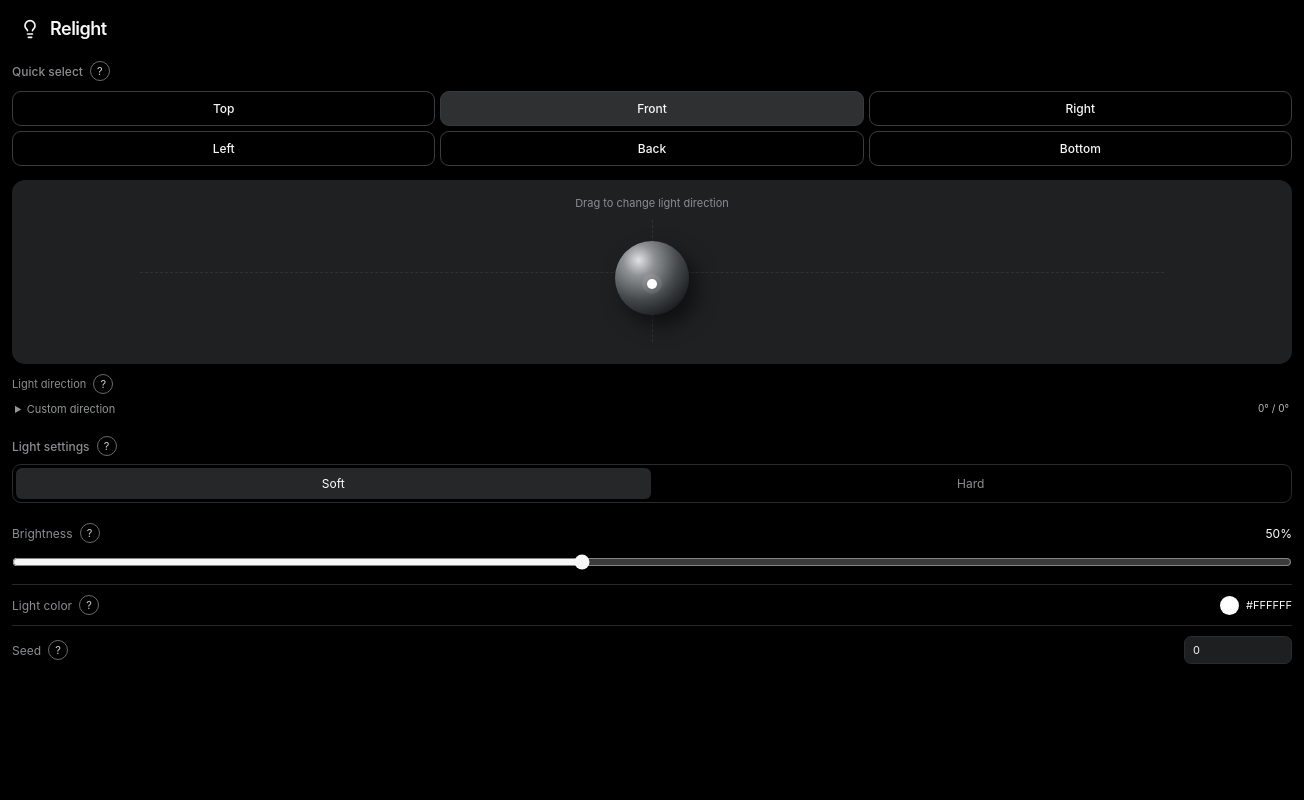
Relight control help › shows a description on mouse hover and supports click and Escape
Hover over the button named "About brightness".
mouse_move(90, 533)  # box x1=80 y1=523 x2=100 y2=543
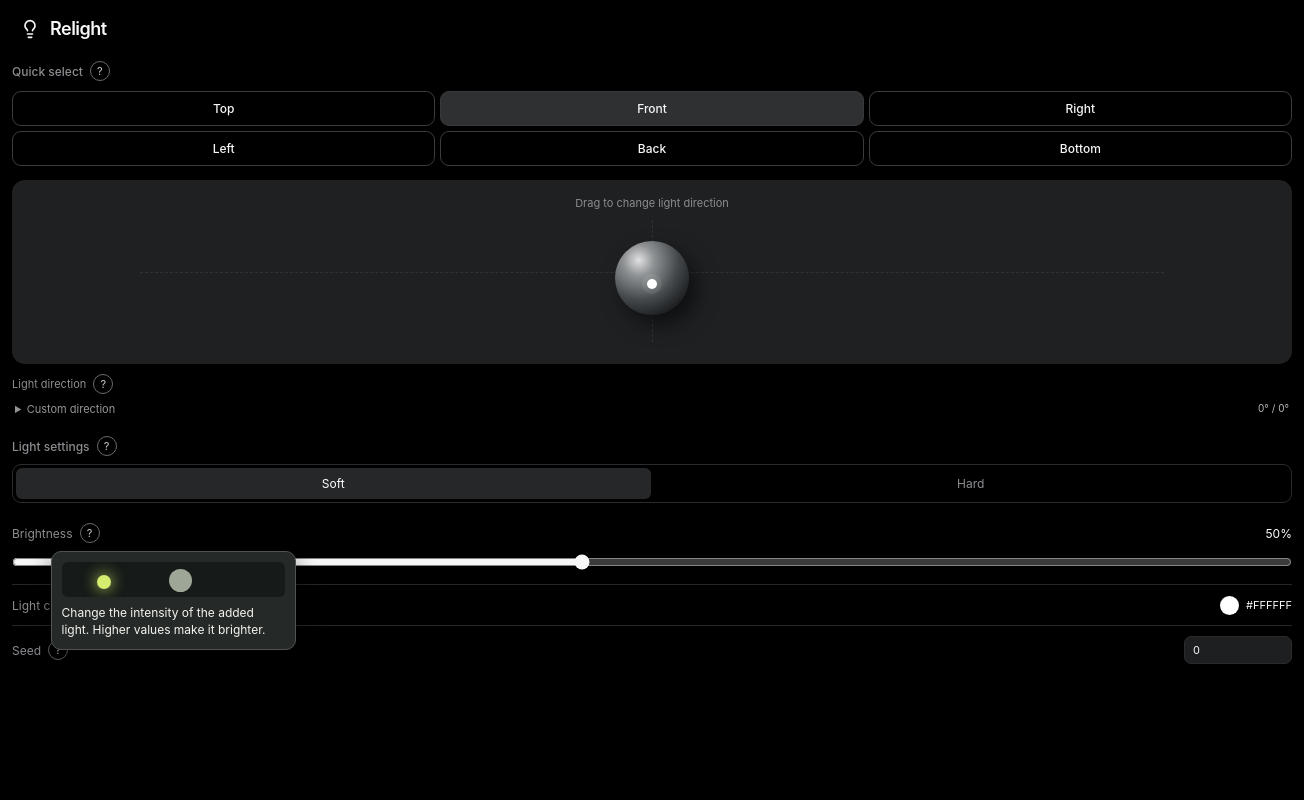
Check: the tooltip shows "Higher values make it brighter", box x1=62 y1=605 x2=265 y2=637
Move the pointer off the button named "About brightness", box x1=80 y1=523 x2=100 y2=543
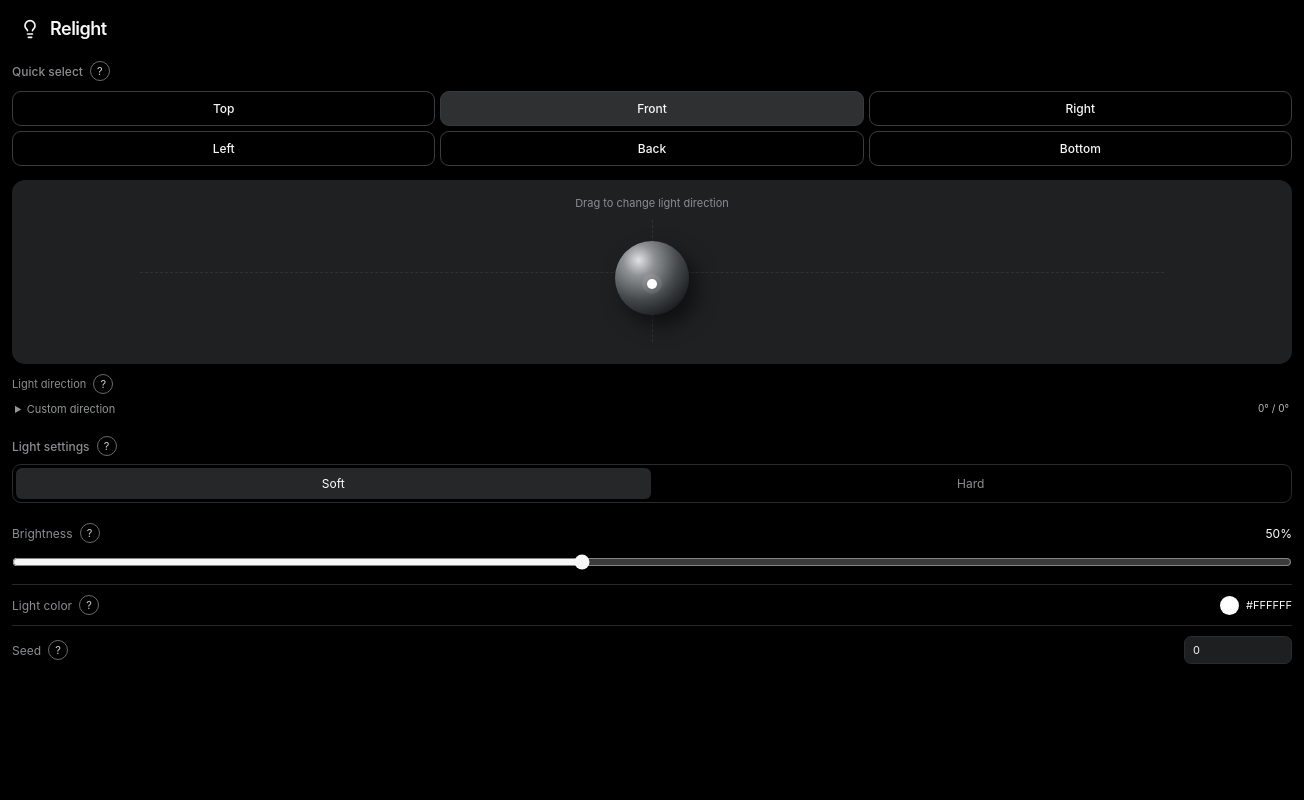
Check: the tooltip "Change the intensity of the added light. Higher values make it brighter." is gone
Click the button named "About brightness".
click(90, 533)  # box x1=80 y1=523 x2=100 y2=543
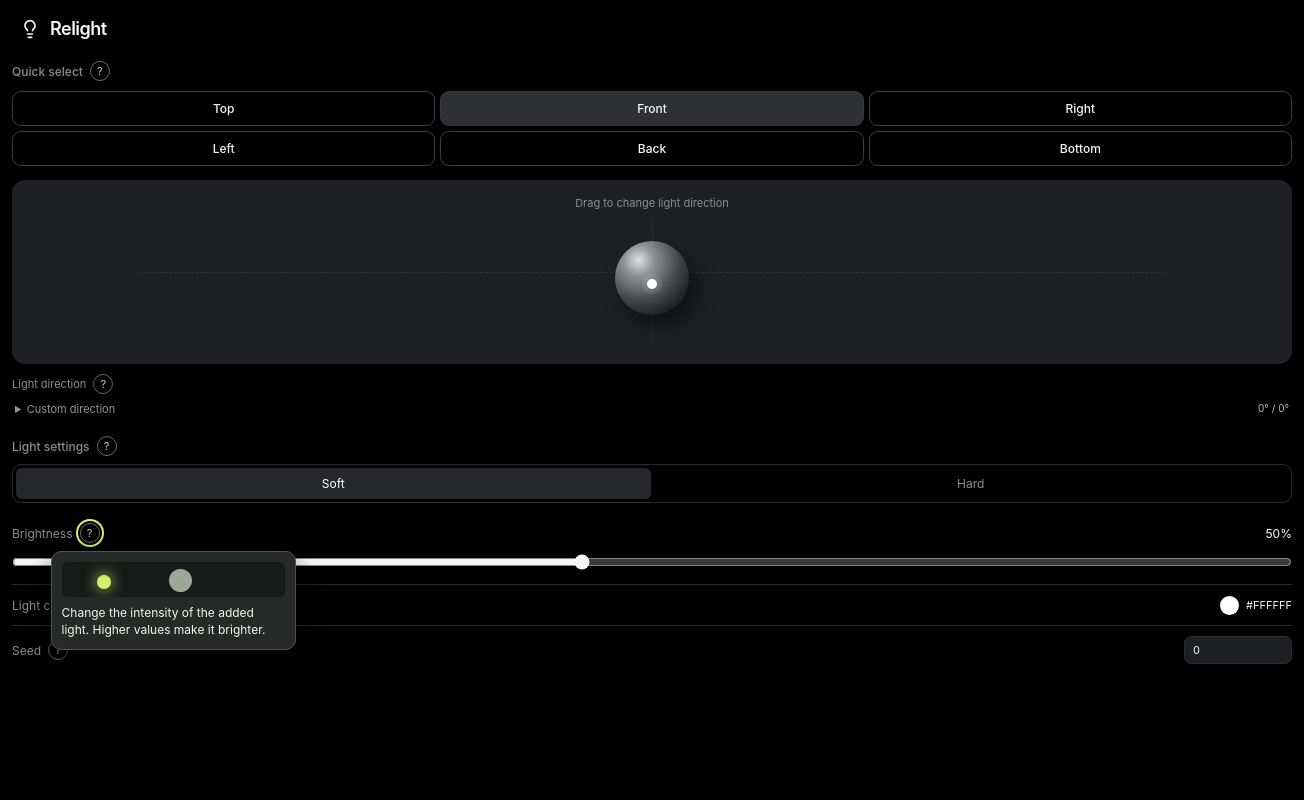
Move the pointer off the button named "About brightness", box x1=80 y1=523 x2=100 y2=543
Check: the button named "About brightness" is expanded, box x1=80 y1=523 x2=100 y2=543
Check: the tooltip shows "intensity", box x1=62 y1=605 x2=265 y2=637
Press Escape
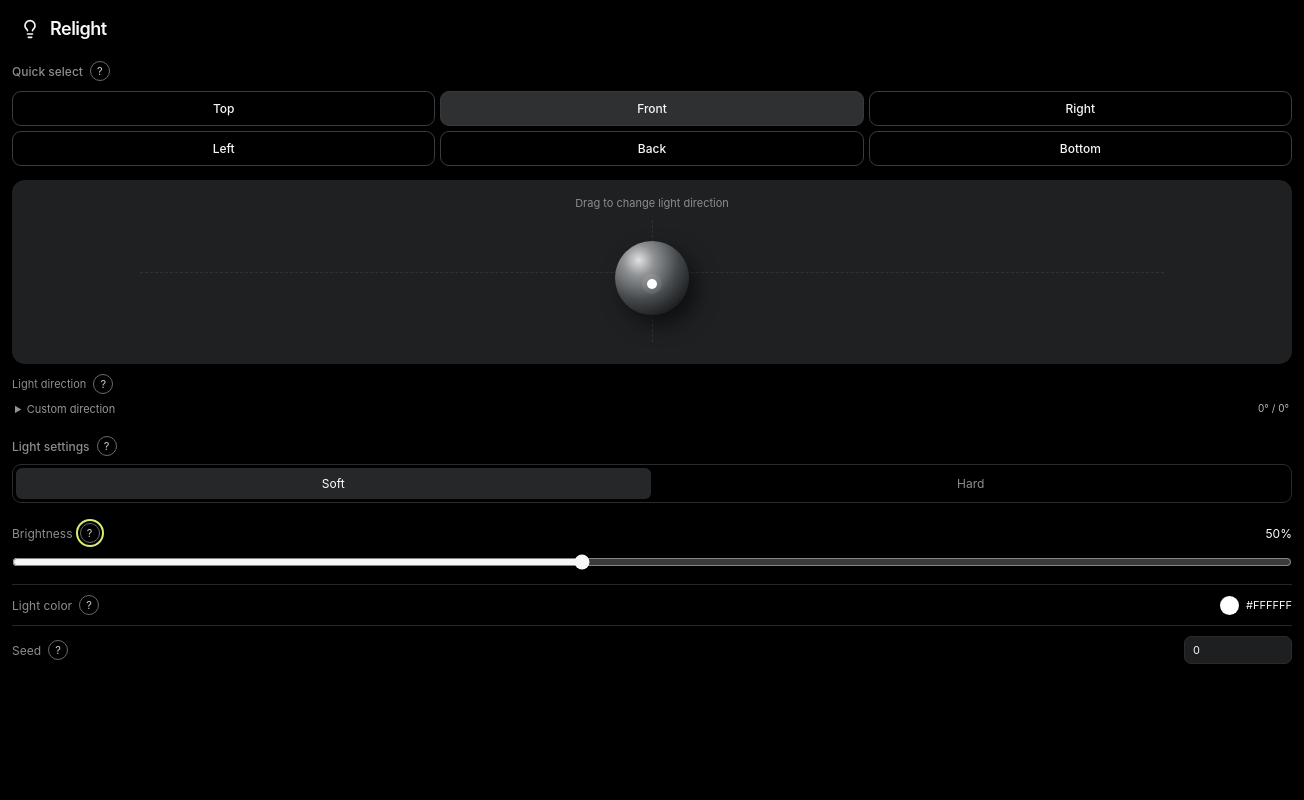
Check: the tooltip "Change the intensity of the added light. Higher values make it brighter." is gone
